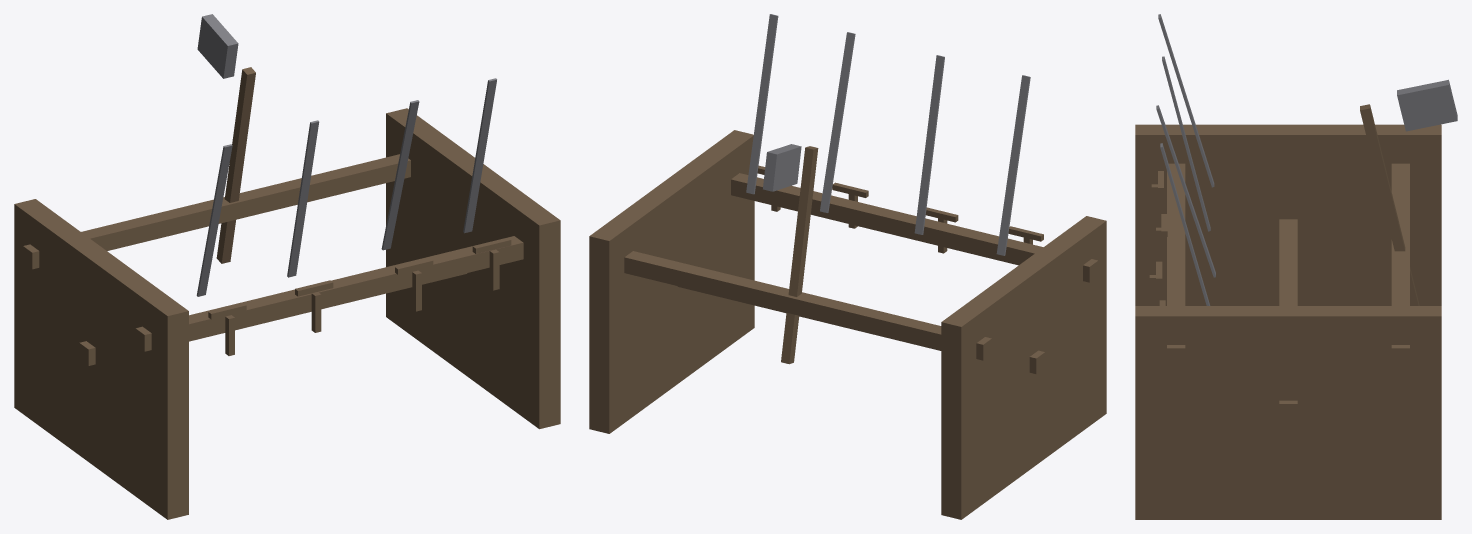
The model's file is weapon_rack.glb.
3 renders of one model, left to right at view 1: azimuth 30°, elevation 25°; view 2: azimuth 150°, elevation 25°; view 3: azimuth 270°, elevation 25°, orthographic. The views are drawn at different scales.
Visible parts, largest first — view 1: weapon_rack; view 2: weapon_rack; view 3: weapon_rack.
Boxes of the visible parts, x1,y1,x2,y2 form: weapon_rack: (14,14,560,519); weapon_rack: (589,14,1106,519); weapon_rack: (1135,14,1457,519).
Bounding box in the file's own units: 2.3 × 1.88 × 1.58.
